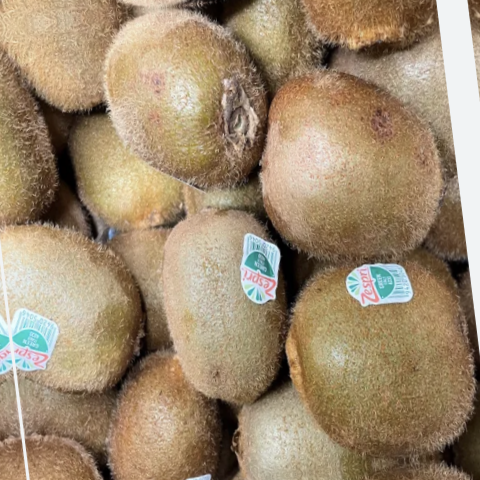kiwi: (229, 55, 458, 297), (259, 227, 480, 474), (68, 0, 310, 199), (131, 178, 305, 420), (0, 204, 154, 425)
